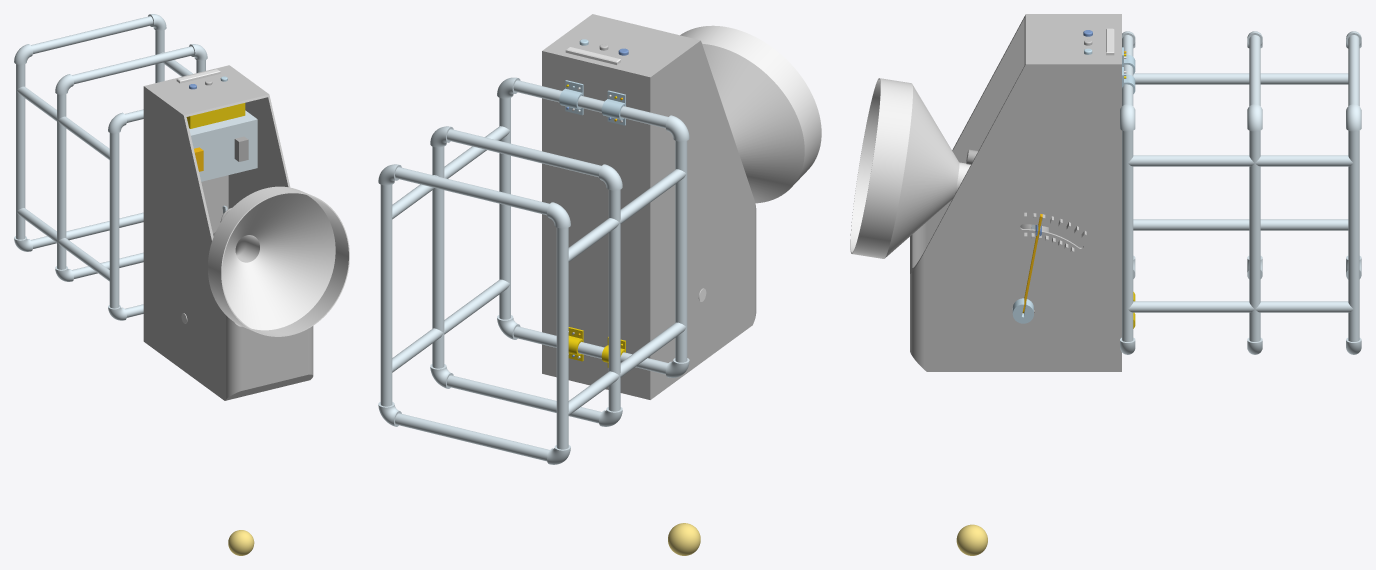
The model's file is PickleBallLauncher.glb.
The picture shows the model from 3 angles, left to right: view 1: azimuth 30°, elevation 25°; view 2: azimuth 150°, elevation 25°; view 3: azimuth 270°, elevation 25°; orthographic projection. The views are drawn at different scales.
Visible parts, largest first — view 1: Case, Part 15, Part 24, Part 16, Part 19, Tube, Ball; view 2: Case, Part 24, Part 15, Ball, Part 30, Part 28; view 3: Case, Part 24, Part 15, Ball.
Boxes of the visible parts, x1=… form: Case: x1=143, y1=65, x2=313, y2=400; Part 15: x1=208, y1=186, x2=349, y2=336; Part 24: x1=14, y1=14, x2=207, y2=320; Part 16: x1=189, y1=110, x2=257, y2=181; Part 19: x1=186, y1=103, x2=245, y2=128; Tube: x1=181, y1=232, x2=259, y2=323; Ball: x1=228, y1=530, x2=254, y2=555; Case: x1=542, y1=14, x2=756, y2=399; Part 24: x1=378, y1=77, x2=689, y2=464; Part 15: x1=680, y1=25, x2=821, y2=203; Ball: x1=668, y1=523, x2=700, y2=555; Part 30: x1=601, y1=90, x2=625, y2=125; Part 28: x1=559, y1=80, x2=583, y2=115; Case: x1=910, y1=14, x2=1121, y2=371; Part 24: x1=1120, y1=31, x2=1361, y2=354; Part 15: x1=850, y1=78, x2=959, y2=258; Ball: x1=956, y1=524, x2=987, y2=555.
Bounding box in the file's own units: 0.4937 × 1.36 × 1.2.
